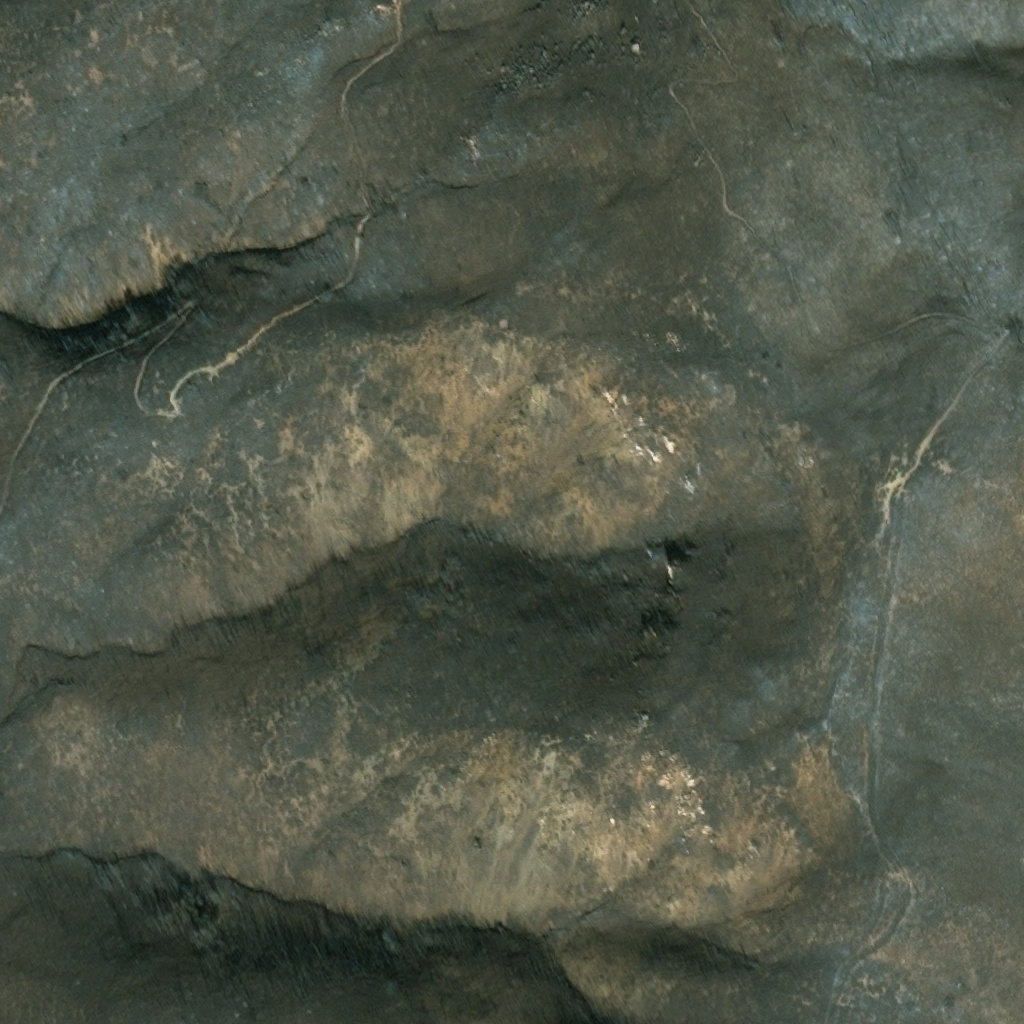4 un-classified: (657, 557, 666, 569)
